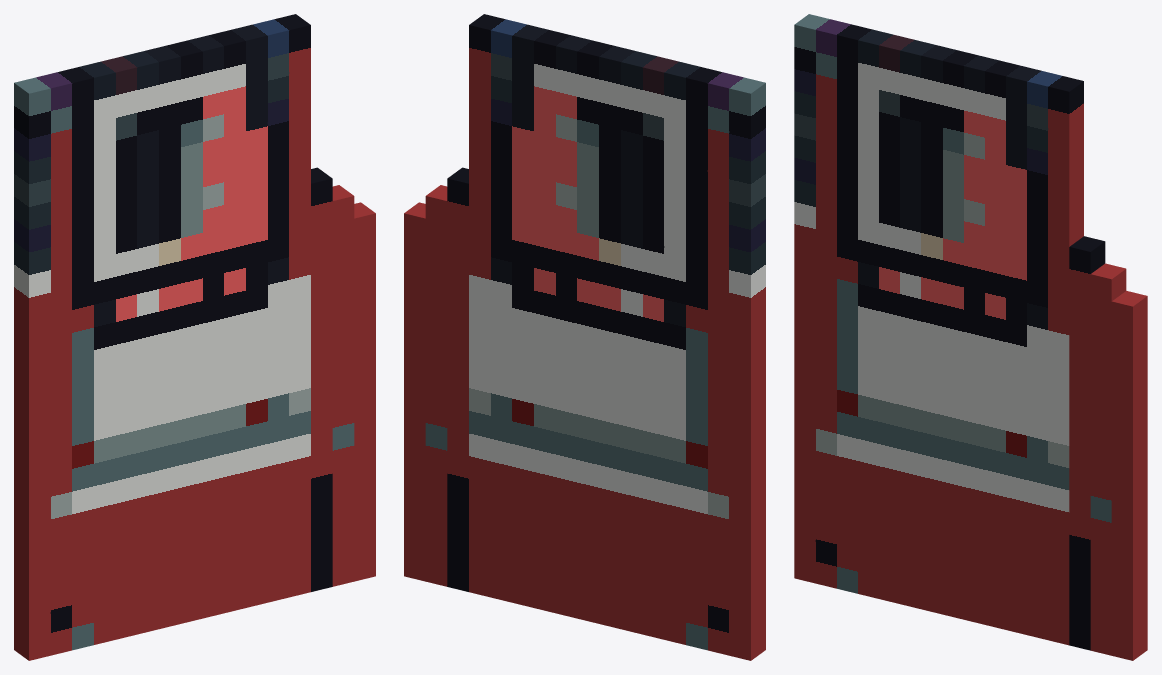
File: keycard.fbx
3 renders of one model, left to right at view 1: azimuth 30°, elevation 25°; view 2: azimuth 150°, elevation 25°; view 3: azimuth 330°, elevation 25°, orthographic. The views are drawn at different scales.
Parts seen in each view (by area): view 1: Key1; view 2: Key1; view 3: Key1.
Part boxes in pixels (box(x1,y1,x2,y2)): Key1: box(14, 14, 375, 660); Key1: box(404, 14, 765, 660); Key1: box(794, 14, 1147, 660).
Size of the model in its own units: 100 by 156 by 7.5.
1 material, 1 textured.
